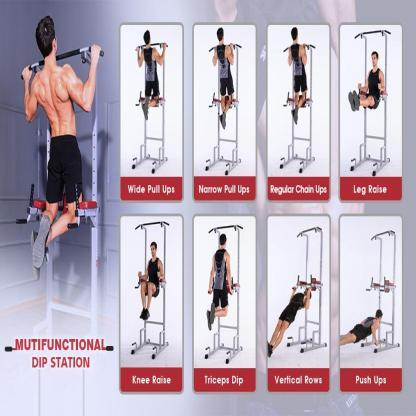chinning dipping: (16, 44, 105, 329)
